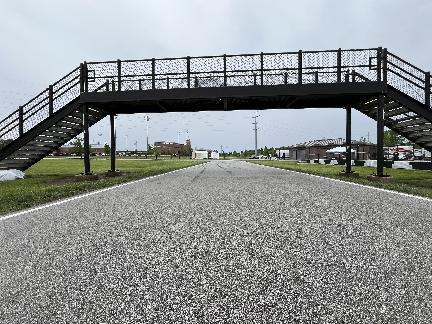Grass: (0, 159, 207, 214), (250, 161, 431, 197)
Lane: (0, 161, 431, 323)
